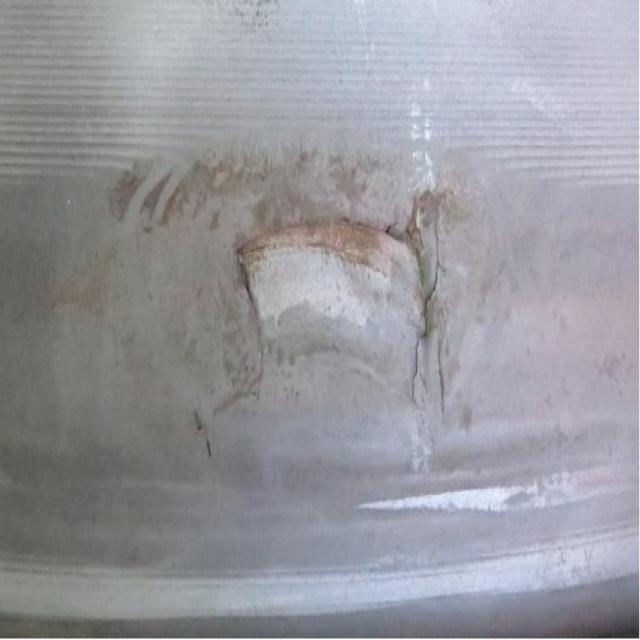Contact_Fatigue_Cracks: (411, 217, 453, 419)
